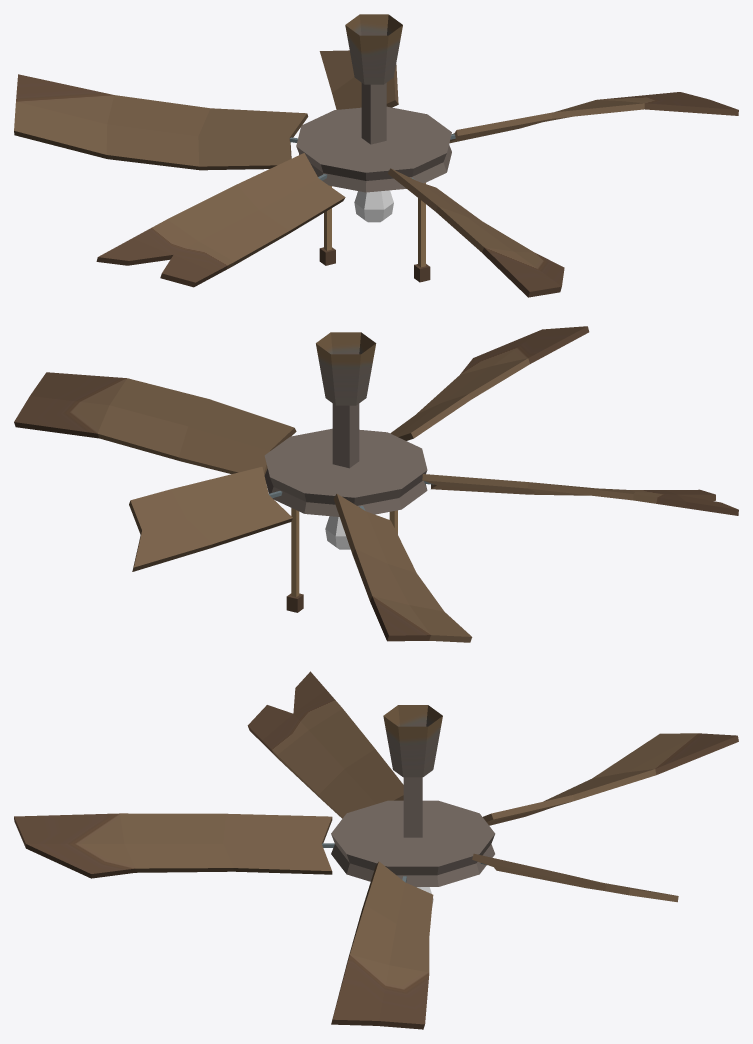
Rendered from SM_Ceiling_Fan.fbx.
The picture shows the model from 3 angles, top to bottom: view 1: azimuth 30°, elevation 25°; view 2: azimuth 150°, elevation 25°; view 3: azimuth 270°, elevation 25°; orthographic projection. The views are drawn at different scales.
Visible parts, largest first — view 1: SM_Ceiling_Fan_Blade, SM_Ceiling_Fan; view 2: SM_Ceiling_Fan_Blade, SM_Ceiling_Fan; view 3: SM_Ceiling_Fan_Blade, SM_Ceiling_Fan.
Part boxes in pixels (bbox=[...]): SM_Ceiling_Fan_Blade: bbox=[14, 50, 738, 297]; SM_Ceiling_Fan: bbox=[296, 14, 451, 282]; SM_Ceiling_Fan_Blade: bbox=[14, 326, 738, 642]; SM_Ceiling_Fan: bbox=[264, 332, 427, 612]; SM_Ceiling_Fan_Blade: bbox=[14, 671, 738, 1029]; SM_Ceiling_Fan: bbox=[331, 705, 495, 907].
Bounding box in the file's own units: 206 × 80.42 × 193.
